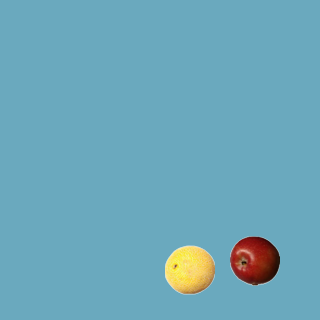Apple Braeburn: (229, 235, 279, 285)
Cantaloupe 1: (164, 244, 214, 294)
